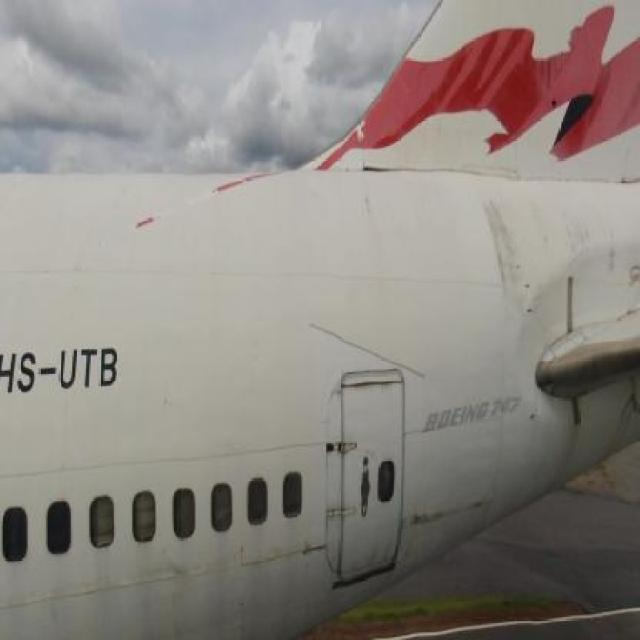Rust: (558, 198, 640, 296), (478, 194, 524, 309), (408, 490, 495, 528), (614, 373, 640, 455), (563, 394, 588, 478), (343, 375, 408, 402), (361, 528, 397, 570)
Scartch: (157, 554, 198, 632), (288, 535, 332, 579)
